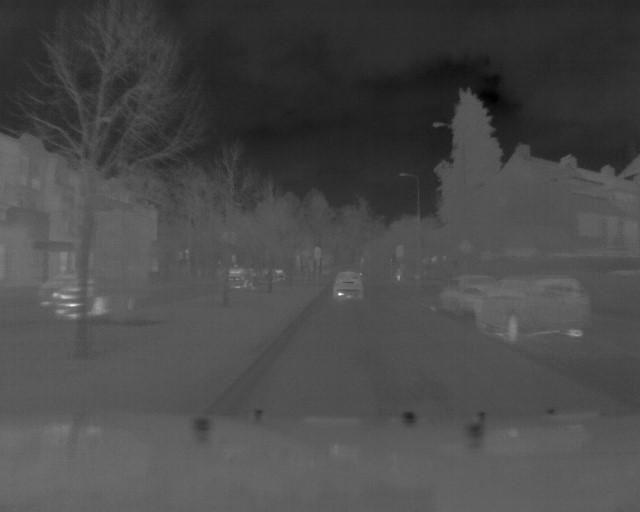car: (480, 274, 589, 340), (44, 269, 138, 318), (435, 271, 494, 316), (330, 269, 365, 300), (222, 263, 259, 288)
